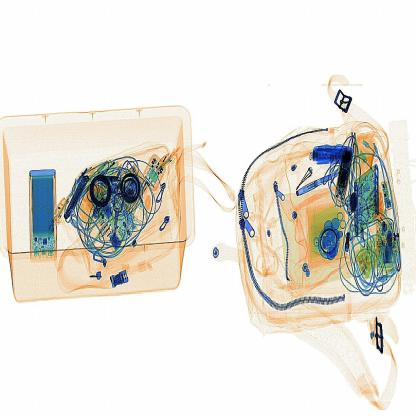scissors: (300, 140, 358, 176)
